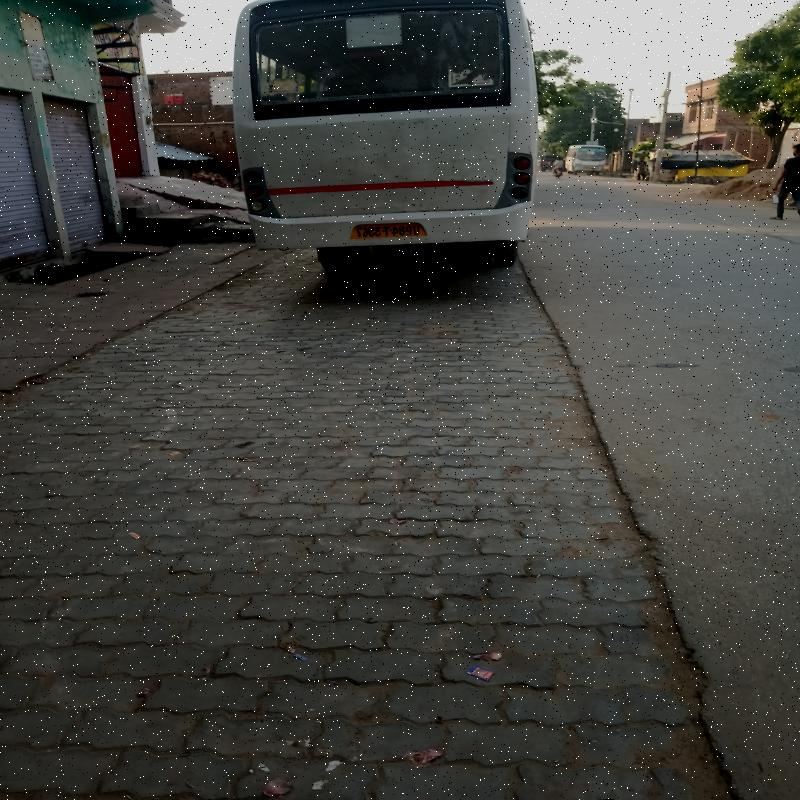bus: (239, 7, 538, 282)
